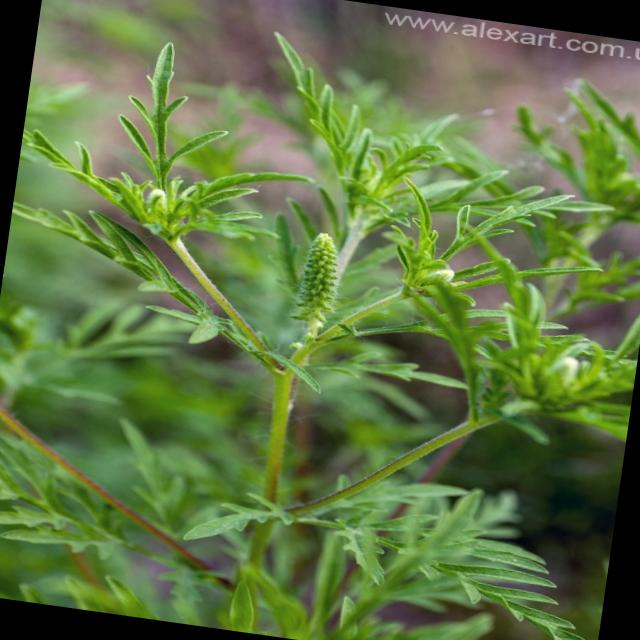ambrosia: (332, 217, 640, 434), (37, 55, 277, 325), (279, 220, 367, 368)
